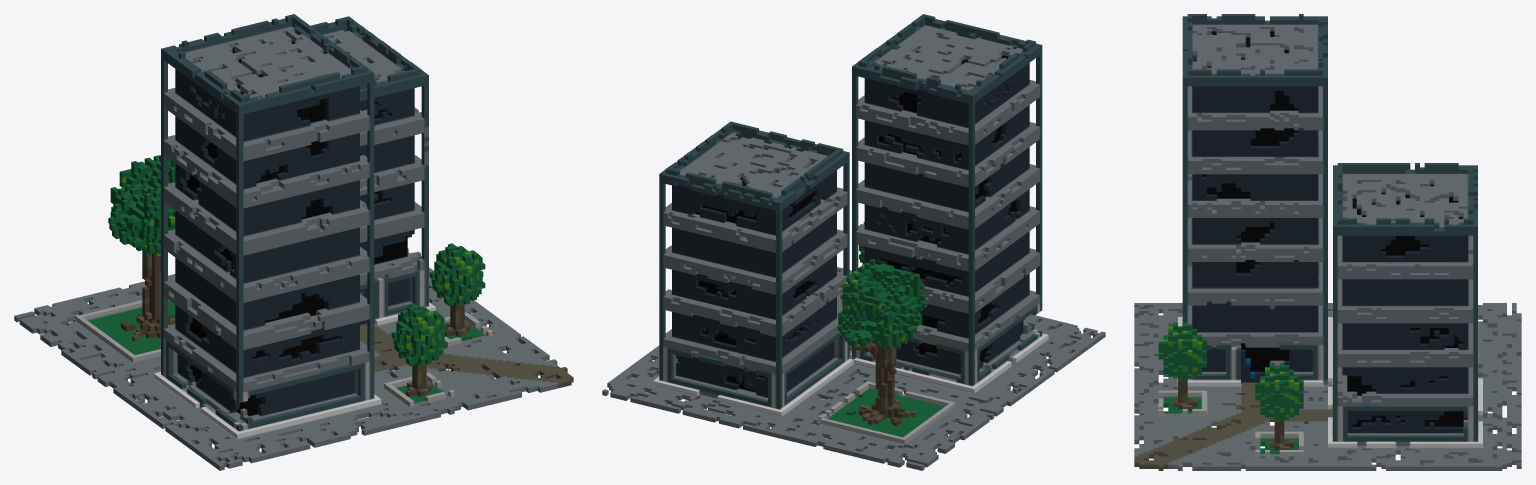
File: building_big_3_damaged.glb
3 views of the same model, side by side, from view 1: azimuth 30°, elevation 25°; view 2: azimuth 150°, elevation 25°; view 3: azimuth 270°, elevation 25° (orthographic). The views are drawn at different scales.
Parts seen in each view (by area): view 1: building_big_3_damaged; view 2: building_big_3_damaged; view 3: building_big_3_damaged.
Boxes of the visible parts, box(x1,y1,x2,y2) form: building_big_3_damaged: box(14, 14, 573, 470); building_big_3_damaged: box(602, 14, 1105, 470); building_big_3_damaged: box(1134, 14, 1521, 470).
Size of the model in its own units: 8 by 7.2 by 8.
Materials: 1 (1 with a texture image).
